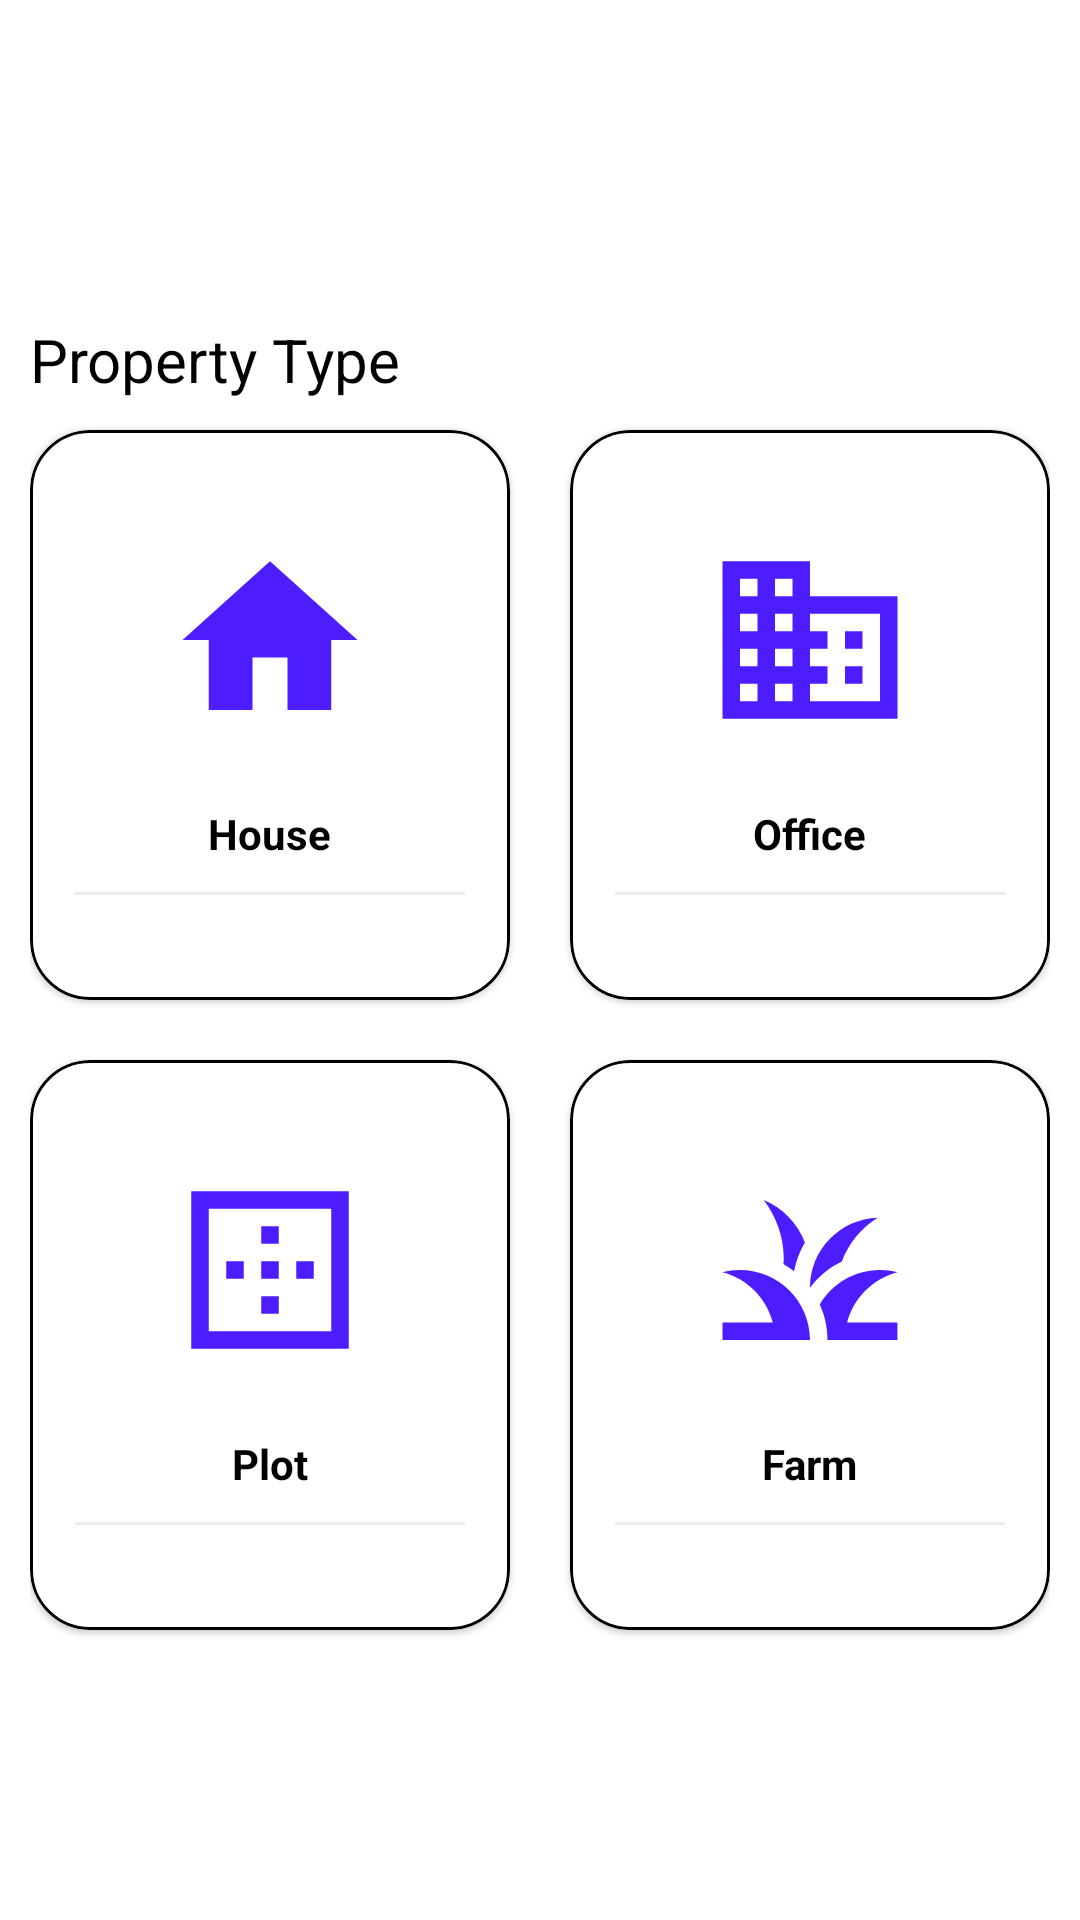

Where icons sit on this 1080×1920 app screen, as [x1, y1, x2, y2]:
border outer: [191, 1191, 349, 1349]
domain: [722, 561, 898, 719]
grass: [722, 1200, 898, 1340]
home: [183, 561, 357, 710]
